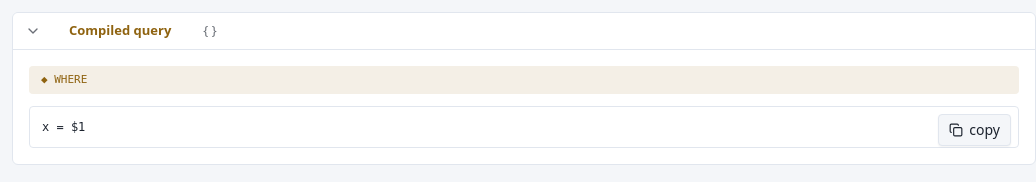
Test: QueryOutputPanel › reveals the canonical textarea when the canonical tab is clicked
The image size is (1036, 182).
Click the button "{ }": (210, 31) [187,13,233,48]
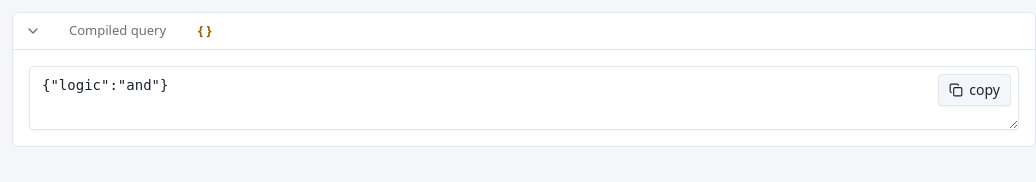
expect the text box is shown: met, box [29,66,1019,130]
